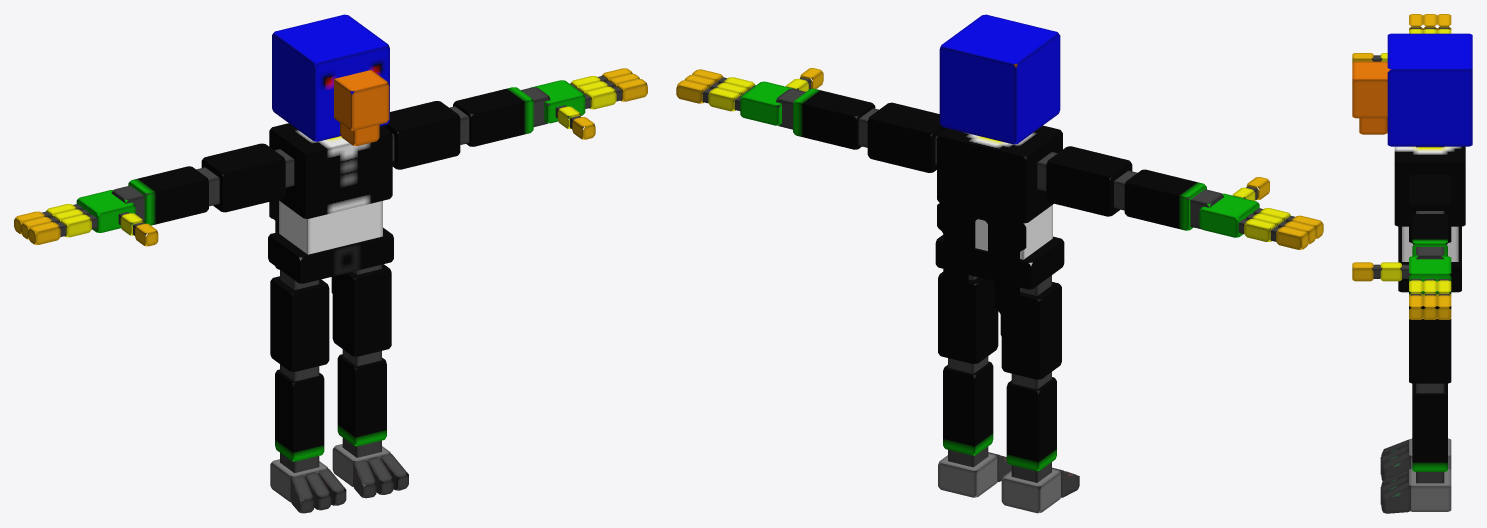
Rendered from fnaph_larry.fbx.
3 renders of one model, left to right at view 1: azimuth 30°, elevation 25°; view 2: azimuth 150°, elevation 25°; view 3: azimuth 270°, elevation 25°, orthographic. The views are drawn at different scales.
Parts seen in each view (by area): view 1: cube_59, cube_13, cube_4, cube_8, cube_38, cube_2, cube_10, cube_15, cube_60, cube_12, cube_17, cube_39 (+7 smaller); view 2: cube_59, cube_13, plane, cube_4, cube_38, cube_10, cube_2, cube_15, cube_8, cube_39, cube_17, cube_60 (+5 smaller); view 3: cube_59, cube_13, cube_10, cube_8, cube_62, cube_15, cube_11, cube_17, cube_19, cube_60, cuboid_4, cube_12 (+22 smaller).
Boxes of the visible parts, x1,y1,x2,y2 form: cube_59: (272,14,389,141); cube_13: (269,123,392,218); cube_4: (270,276,329,371); cube_8: (332,264,391,356); cube_38: (201,143,285,212); cube_2: (275,369,324,461); cube_10: (337,354,386,446); cube_15: (383,101,460,169); cube_60: (268,227,393,283); cube_12: (279,200,382,260); cube_17: (453,87,533,146); cube_39: (128,166,208,225); cube_59: (939,14,1060,144); cube_13: (937,125,1062,223); plane: (937,203,1026,366); cube_4: (1001,282,1061,379); cube_38: (1046,146,1132,216); cube_10: (943,361,993,455); cube_2: (1006,377,1056,471); cube_15: (867,102,946,172); cube_8: (938,272,998,363); cube_39: (1124,169,1206,230); cube_17: (793,88,875,149); cube_60: (935,235,1064,289); cube_59: (1387,33,1472,146); cube_13: (1394,146,1465,226); cube_10: (1412,383,1447,471); cube_8: (1409,292,1451,383); cube_62: (1352,61,1390,118); cube_15: (1409,174,1451,242); cube_11: (1409,468,1451,511); cube_17: (1412,214,1447,256); cube_19: (1409,256,1451,293); cube_60: (1398,226,1461,292); cuboid_4: (1381,481,1411,513); cube_12: (1402,226,1458,261).
Size of the model in its own units: 306 by 212 by 53.13.
